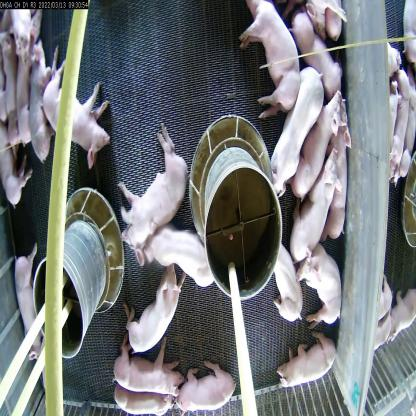Pig: (110, 117, 189, 251), (37, 45, 116, 172), (268, 65, 326, 205), (112, 261, 188, 357), (240, 0, 300, 119), (130, 215, 216, 294), (287, 148, 342, 269), (289, 86, 344, 198), (108, 330, 187, 401), (290, 11, 343, 100), (296, 238, 344, 333), (10, 244, 47, 363), (165, 354, 237, 415), (273, 328, 339, 392), (27, 39, 60, 166), (9, 25, 40, 150), (0, 118, 35, 214), (329, 119, 356, 242), (270, 236, 305, 330), (394, 67, 416, 182), (111, 382, 177, 416), (308, 0, 347, 41)
